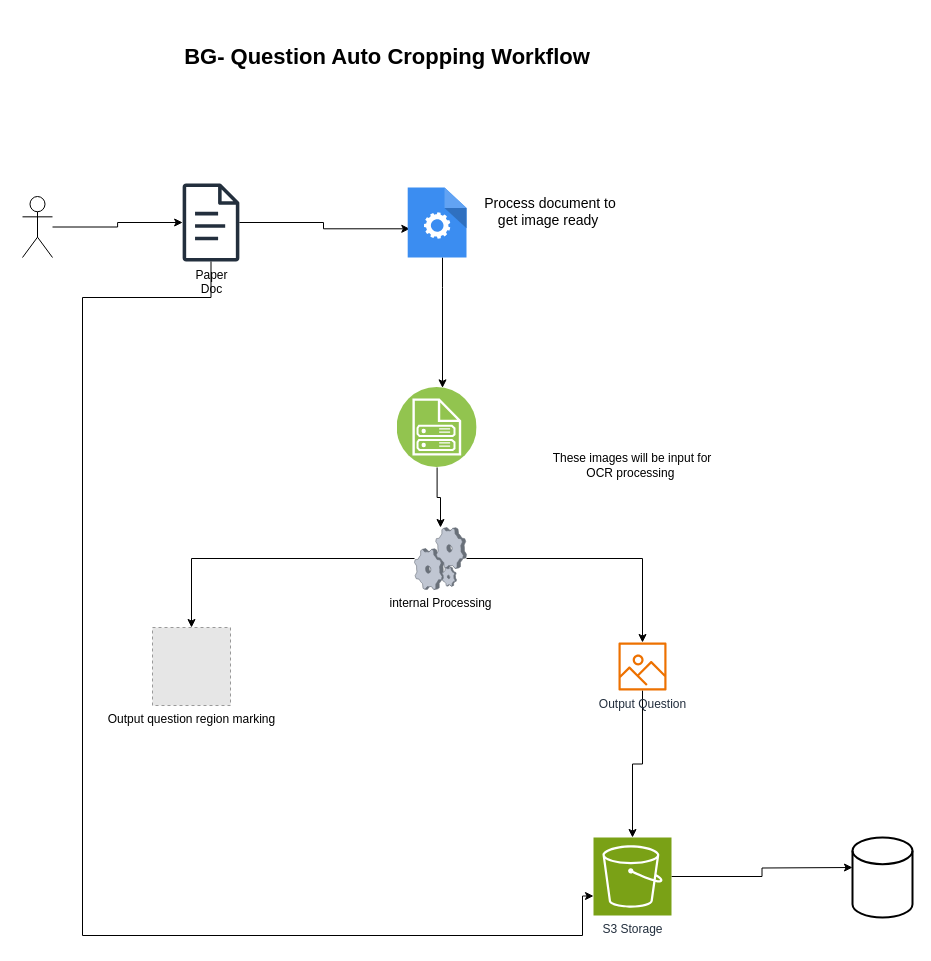
The diagram is 931 pixels wide and 961 high, and some of its shapes have lost their labels. Grey dashed boxes stand in for pictures. Each missing label, with the centre of its shape:
"Curator" goes at pixel 37 227.
"DB" goes at pixel 882 877.
